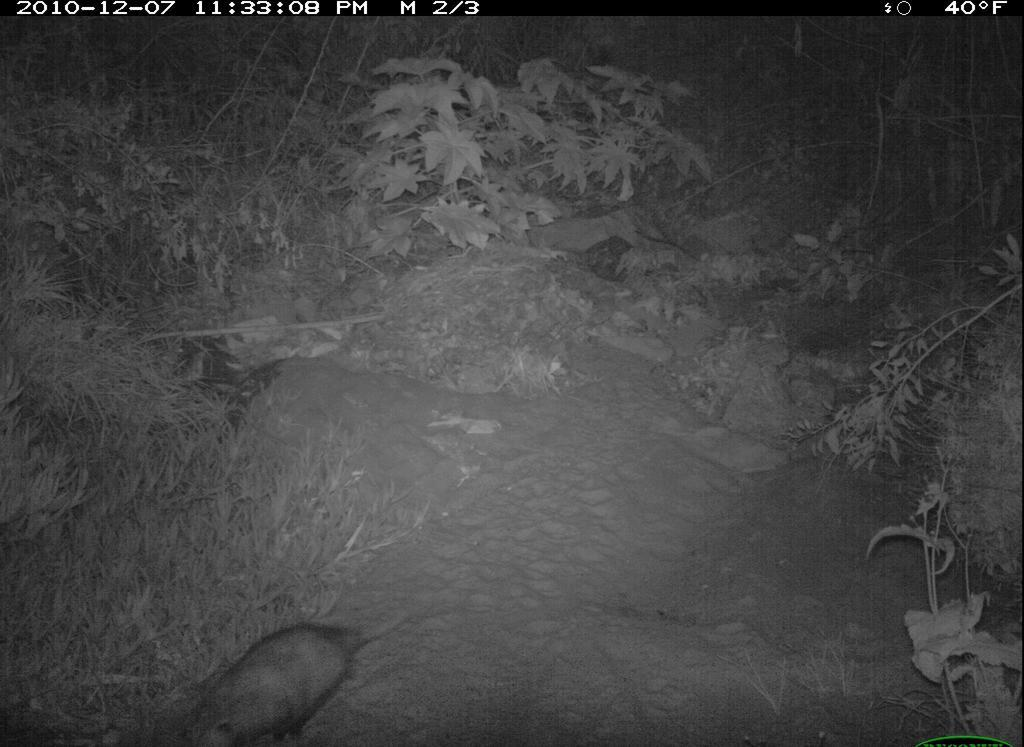opossum: (168, 601, 402, 747)
